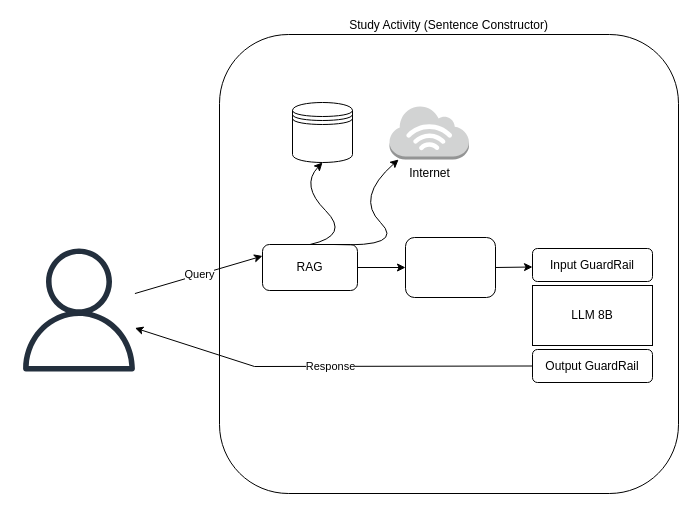
Image size: 696x511. Some labels were removed from this diagram. The shapes that lost their labels are listed below. From the top down, each one's box as (x1, y1, x2, y2) in pixels, then its label:
(292, 102, 352, 162): Database
(404, 236, 496, 298): Prompt Cache
(17, 248, 140, 371): User
